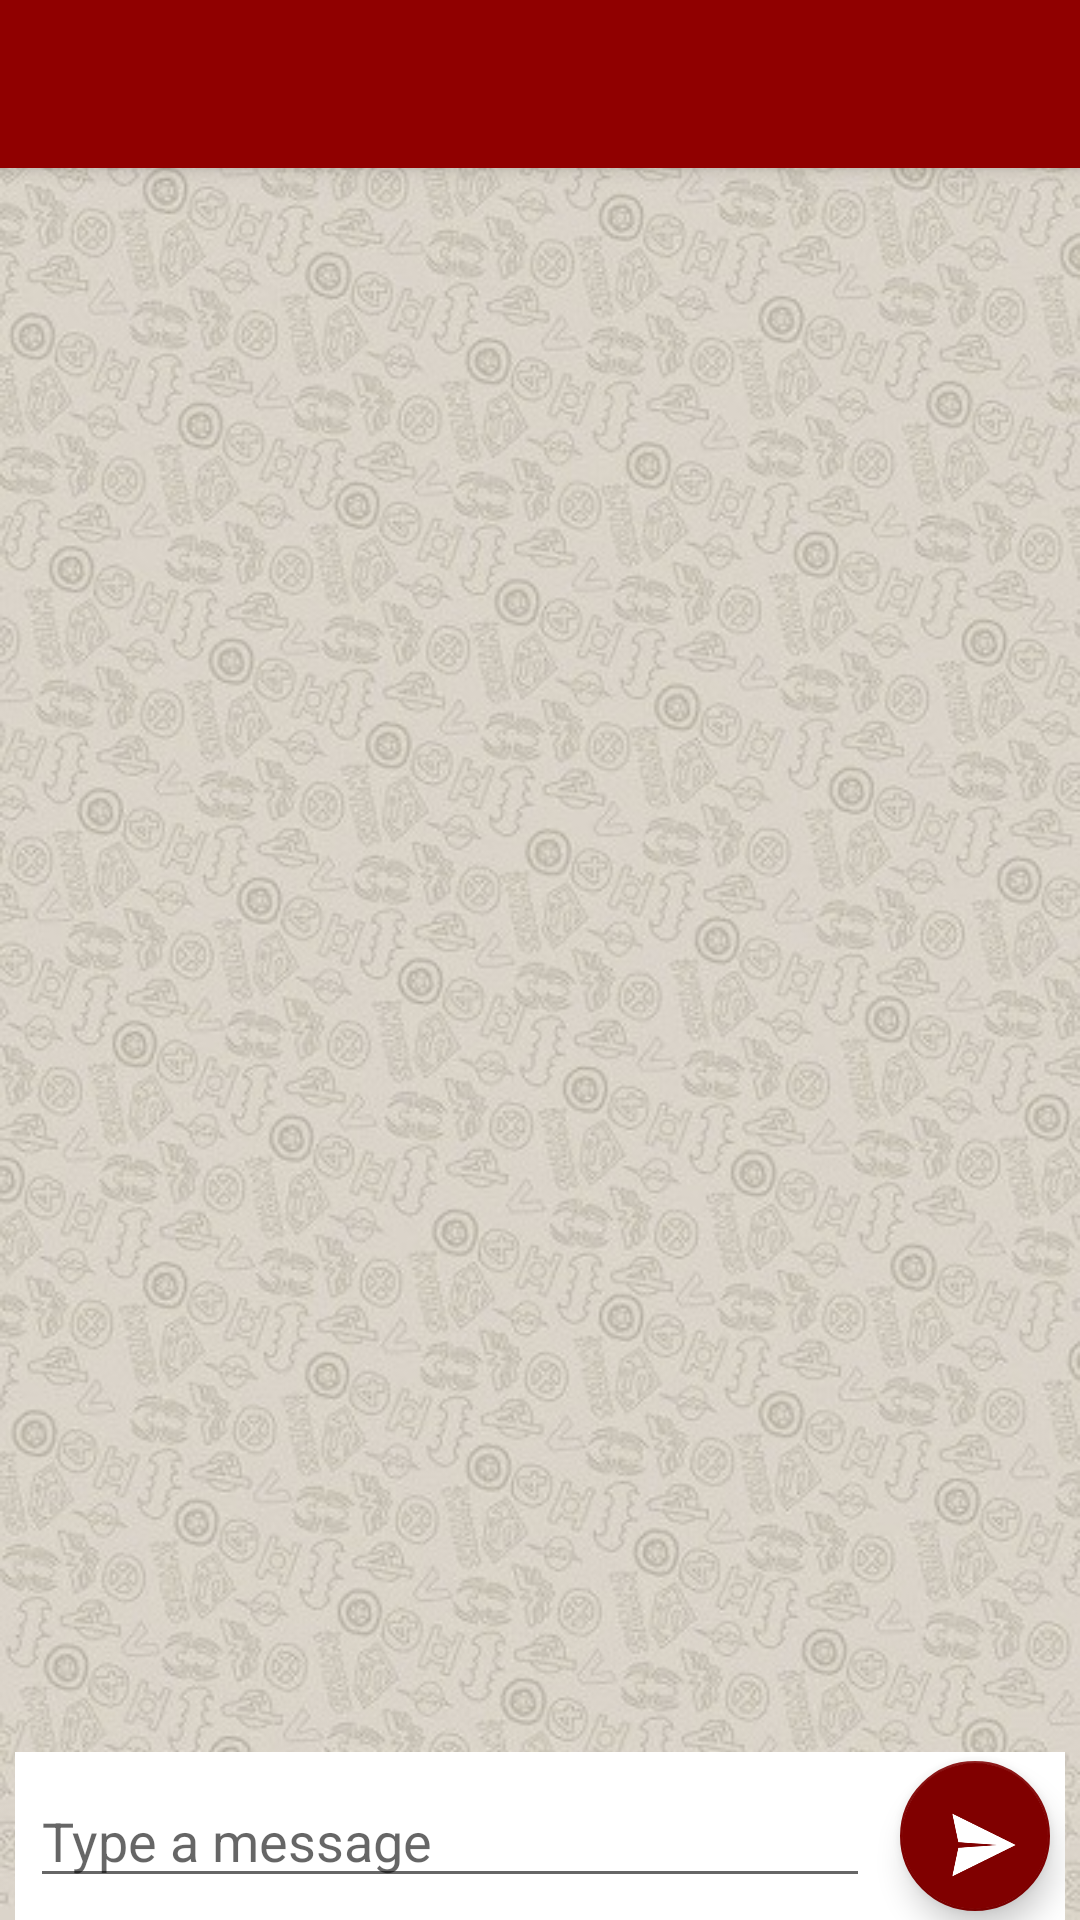

Locate icon controls on the screen. Image size 1080px×1920px, boxes as (x1=x1, y1=y1, x2=x2, y2=y2).
btnsend: (x1=900, y1=1761, x2=1050, y2=1911)
